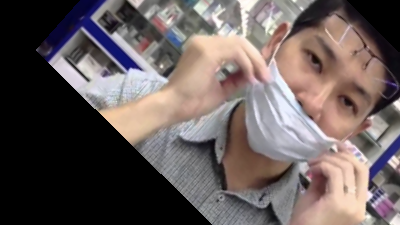mask_weared_incorrect: (208, 2, 400, 164)
